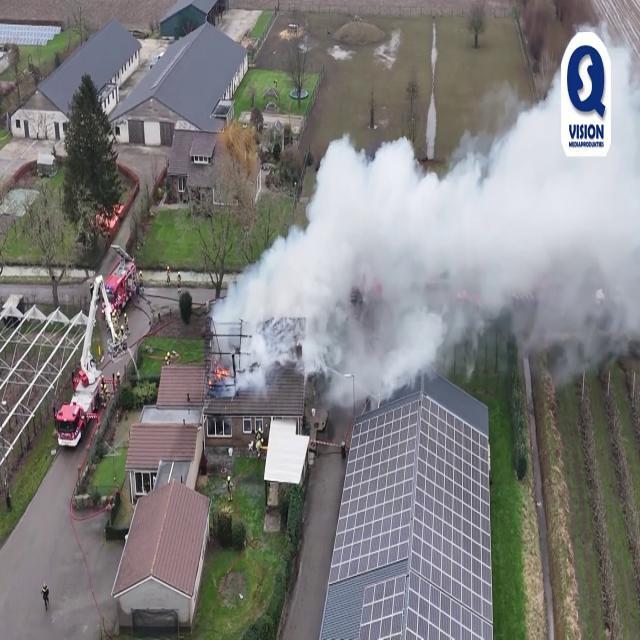Smoke: (215, 79, 640, 405)
